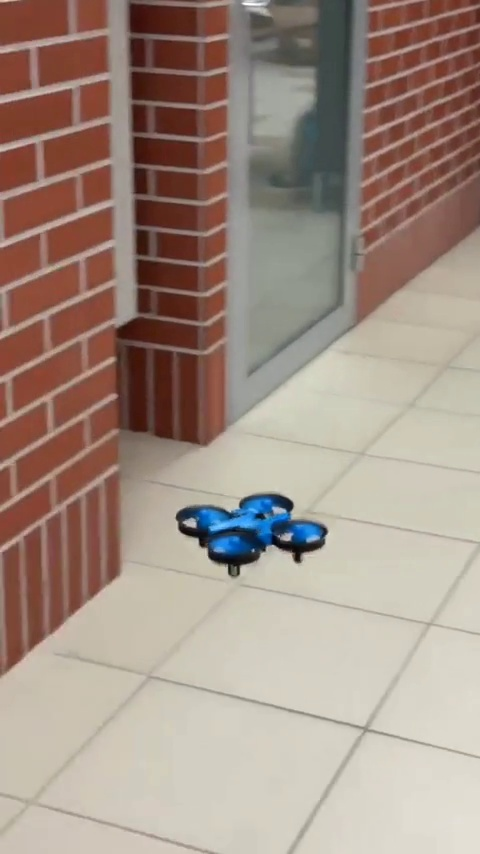drone: (177, 493, 328, 575)
